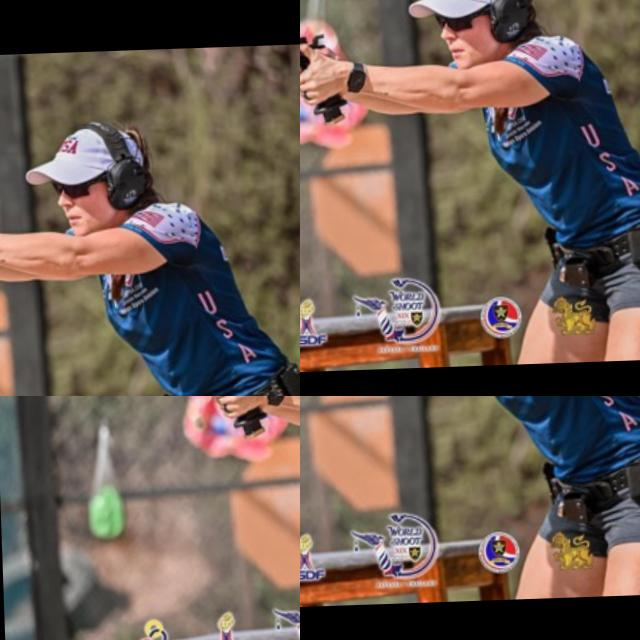handgun: (300, 0, 640, 376), (0, 275, 226, 396), (300, 396, 353, 425)
